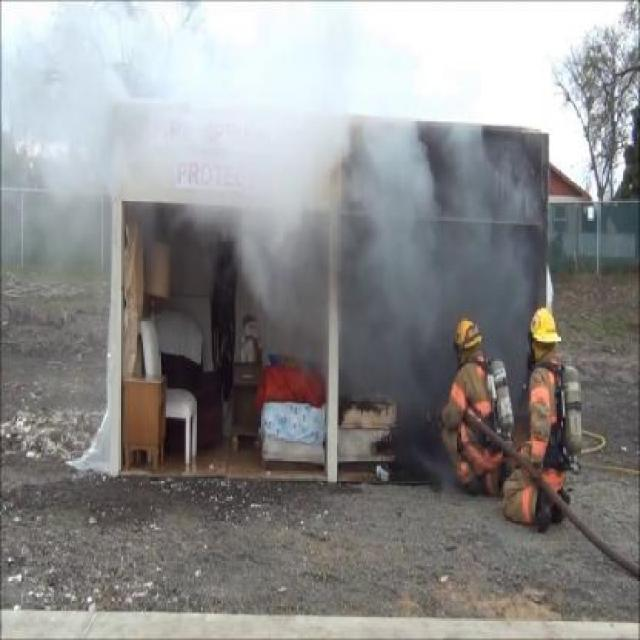smoke: (21, 28, 597, 364)
